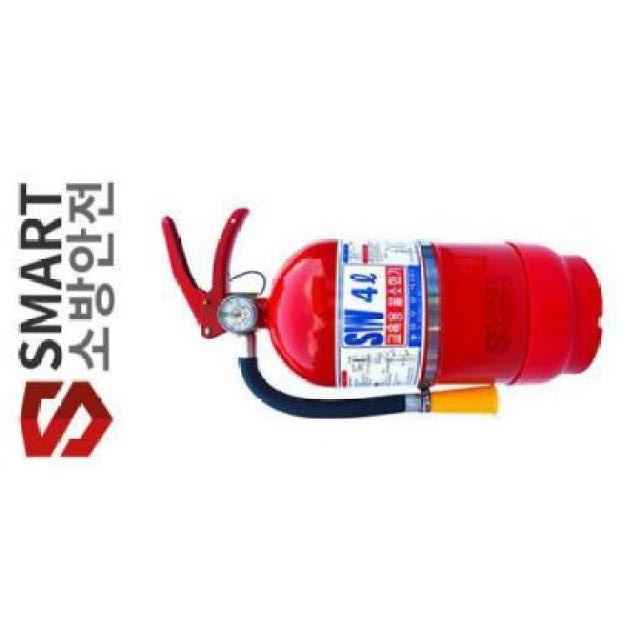fire extinguisher: (159, 208, 604, 420)
